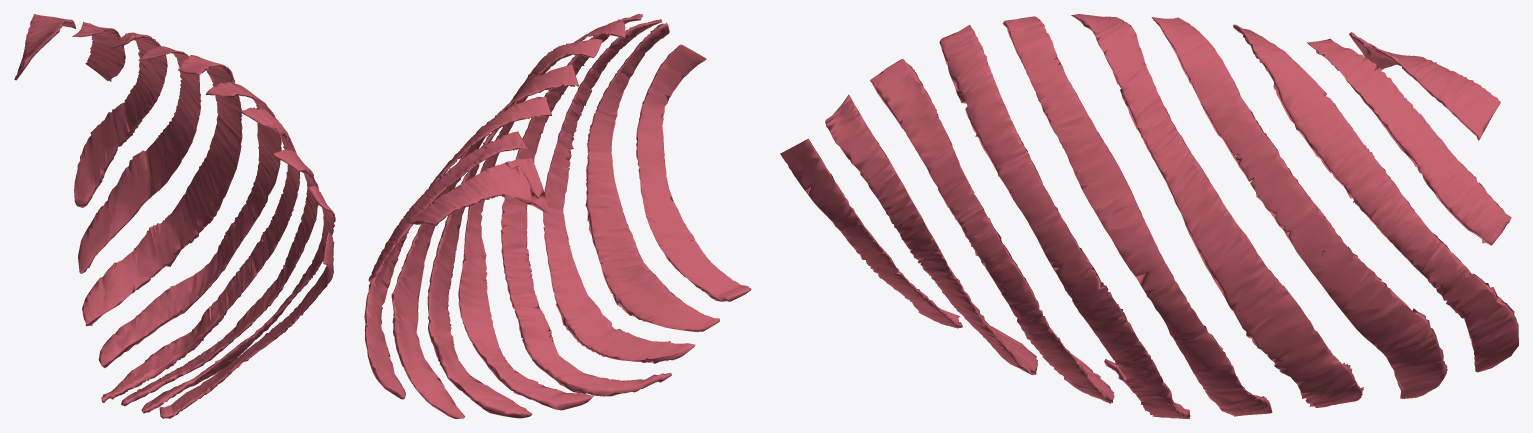
3 renders of one model, left to right at view 1: azimuth 30°, elevation 25°; view 2: azimuth 150°, elevation 25°; view 3: azimuth 270°, elevation 25°, orthographic. The views are drawn at different scales.
Parts seen in each view (by area): view 1: 左侧肋间内肌; view 2: 左侧肋间内肌; view 3: 左侧肋间内肌.
Part boxes in pixels (x1,y1,x2,y2): 左侧肋间内肌: [14, 14, 335, 418]; 左侧肋间内肌: [364, 14, 751, 418]; 左侧肋间内肌: [780, 14, 1518, 418].
Size of the model in its own units: 0.1848 by 0.3036 by 0.4859.
